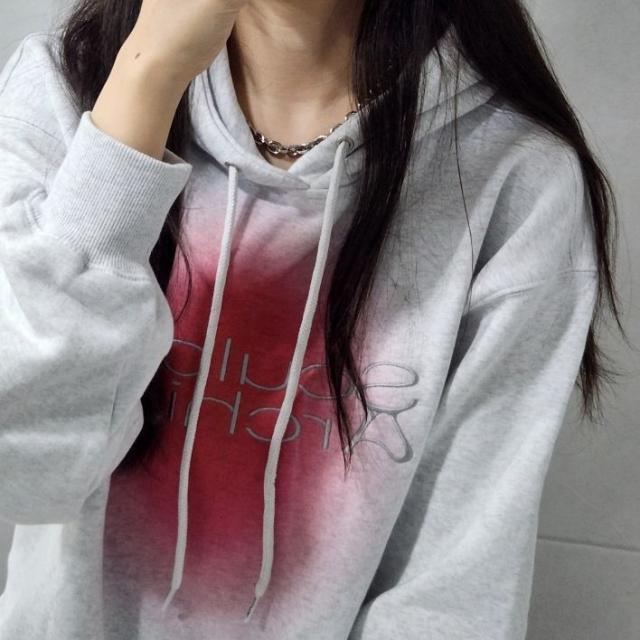hoodies: (0, 18, 610, 640)
